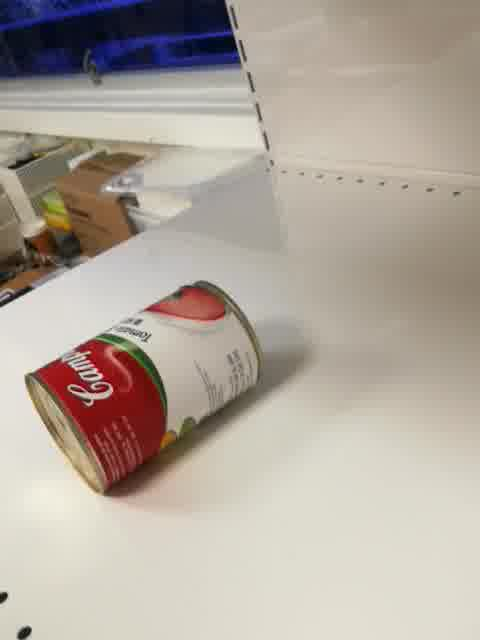tomatosoup: (23, 277, 262, 500)
